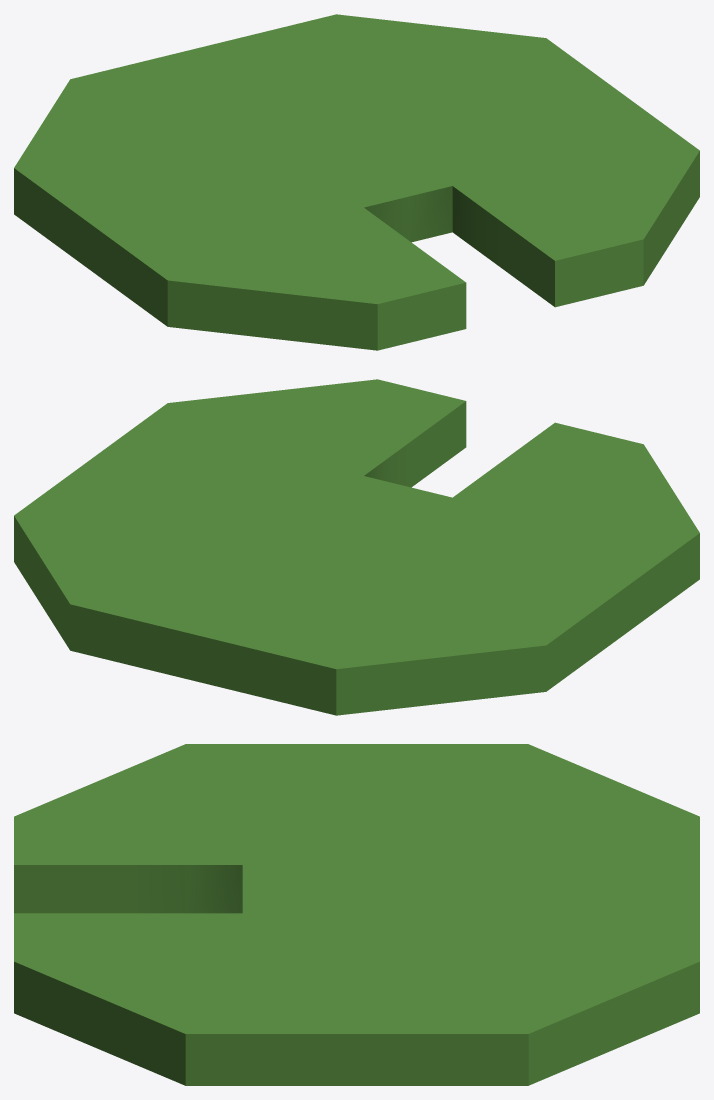
Rendered from LilyPad.fbx.
The picture shows the model from 3 angles, top to bottom: view 1: azimuth 30°, elevation 25°; view 2: azimuth 150°, elevation 25°; view 3: azimuth 270°, elevation 25°; orthographic projection. The views are drawn at different scales.
Parts seen in each view (by area): view 1: Pad; view 2: Pad; view 3: Pad.
Part boxes in pixels (x1=…): Pad: x1=14, y1=14, x2=699, y2=350; Pad: x1=14, y1=379, x2=699, y2=715; Pad: x1=14, y1=744, x2=699, y2=1085.
Size of the model in its own units: 120 by 10 by 120.
